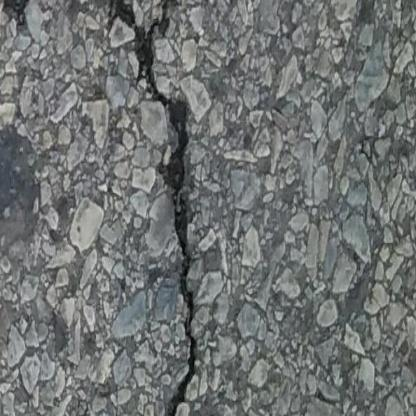Cracks: (95, 0, 201, 416), (0, 0, 48, 31)
